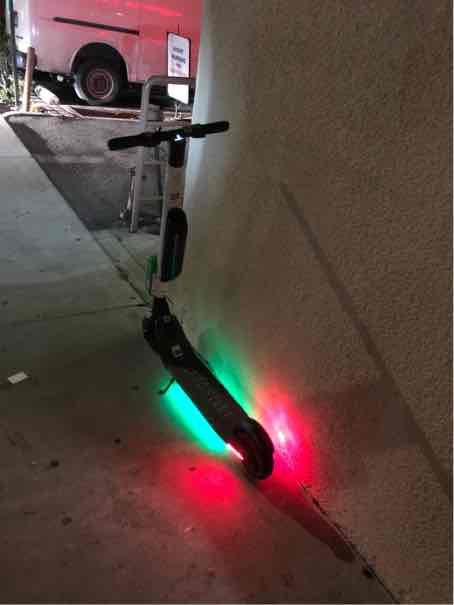scooter: (104, 115, 293, 492)
